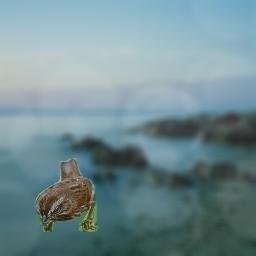Sparrow: (34, 158, 100, 232)
